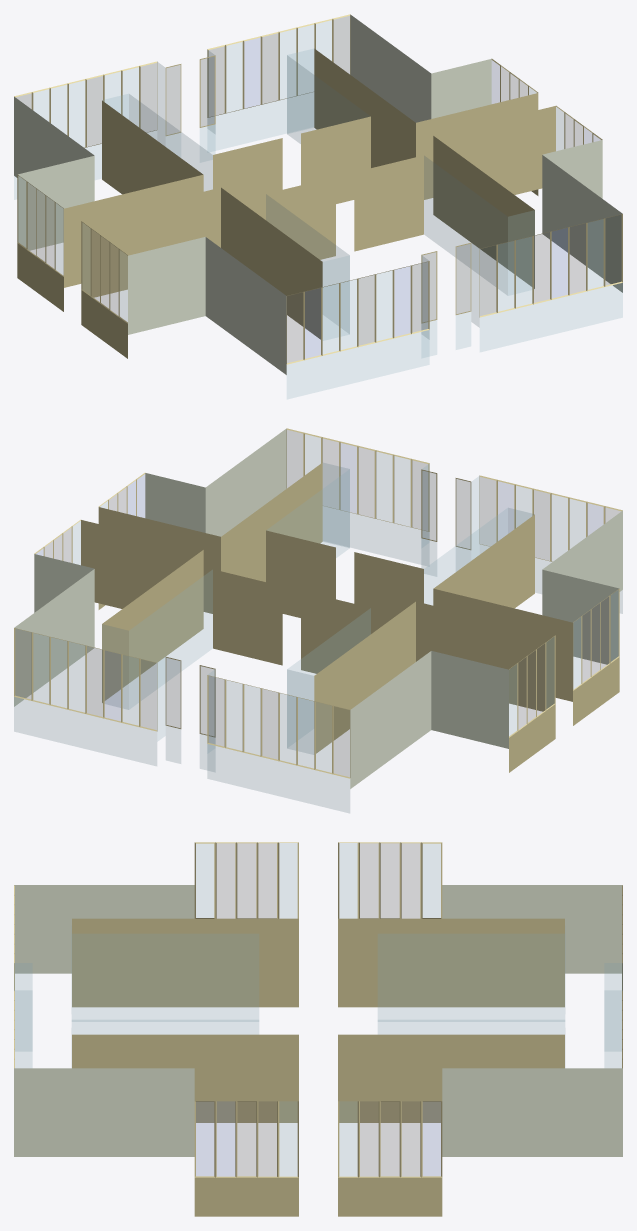
The model's file is floor7.glb.
3 renders of one model, top to bottom at view 1: azimuth 30°, elevation 25°; view 2: azimuth 150°, elevation 25°; view 3: azimuth 270°, elevation 25°, orthographic. The views are drawn at different scales.
Visible parts, largest first — view 1: floor7; view 2: floor7; view 3: floor7.
Boxes of the visible parts, left/top/right/bottom form: floor7: left=14, top=14, right=622, bottom=398; floor7: left=14, top=428, right=622, bottom=812; floor7: left=14, top=842, right=622, bottom=1216.
Bounding box in the file's own units: 6.01 × 1.26 × 5.98.
